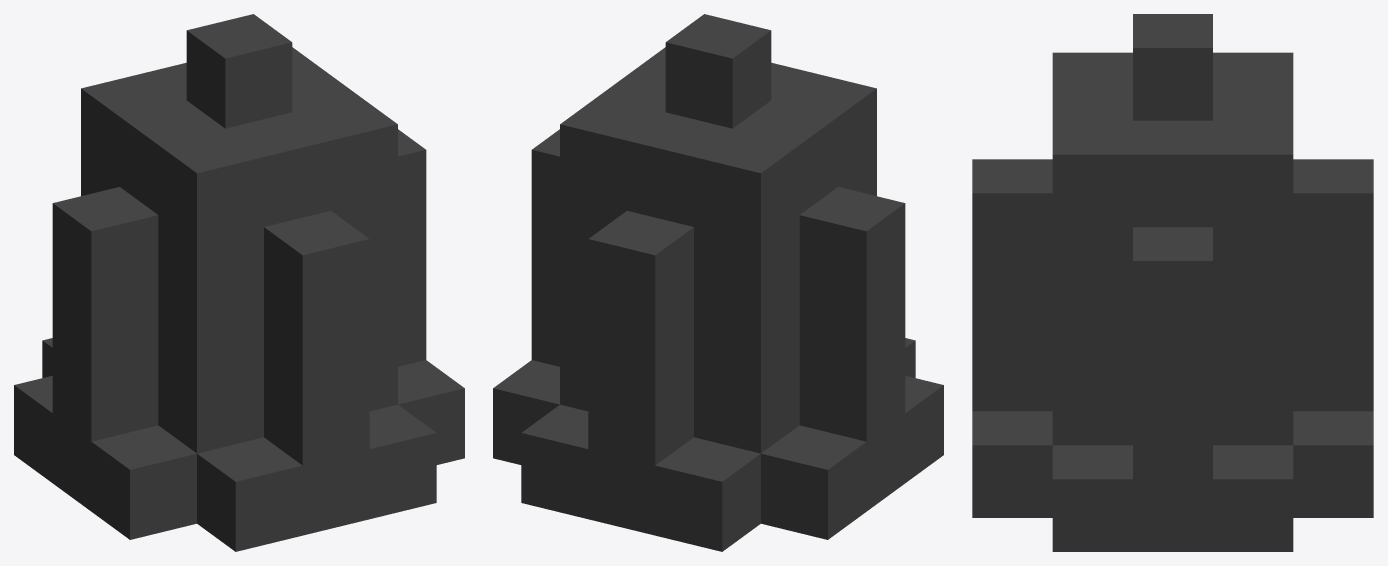
File: Roca1.obj
The picture shows the model from 3 angles, left to right: view 1: azimuth 30°, elevation 25°; view 2: azimuth 150°, elevation 25°; view 3: azimuth 270°, elevation 25°; orthographic projection. The views are drawn at different scales.
Parts seen in each view (by area): view 1: Element #5, Element #2, Element #8, Element #3, Element #1, Element #10, Element #7, Element #6; view 2: Element #6, Element #2, Element #9, Element #4, Element #1, Element #10, Element #7, Element #5; view 3: Element #5, Element #6, Element #1, Element #8, Element #9, Element #2, Element #3, Element #4, Element #7, Element #10.
Boxes of the visible parts, x1,y1,x2,y2 form: Element #5: (158, 96, 397, 453); Element #2: (52, 129, 426, 441); Element #8: (264, 211, 369, 465); Element #3: (197, 404, 436, 551); Element #1: (14, 360, 464, 539); Element #10: (186, 14, 292, 128); Element #7: (119, 68, 358, 214); Element #6: (81, 47, 320, 195); Element #6: (560, 96, 799, 453); Element #2: (531, 129, 905, 441); Element #9: (588, 211, 693, 465); Element #4: (521, 404, 760, 551); Element #1: (493, 360, 943, 539); Element #10: (665, 14, 771, 128); Element #7: (599, 68, 838, 214); Element #5: (637, 47, 876, 195); Element #5: (1052, 52, 1132, 445); Element #6: (1213, 52, 1293, 445); Element #1: (1052, 445, 1293, 551); Element #8: (972, 159, 1052, 411); Element #9: (1293, 159, 1373, 411); Element #2: (1133, 227, 1212, 479); Element #3: (972, 411, 1052, 517); Element #4: (1293, 411, 1373, 517); Element #7: (1133, 120, 1212, 227); Element #10: (1133, 14, 1212, 120).
Size of the model in its own units: 0.8 by 0.96 by 0.8.
1 material, 1 textured.
